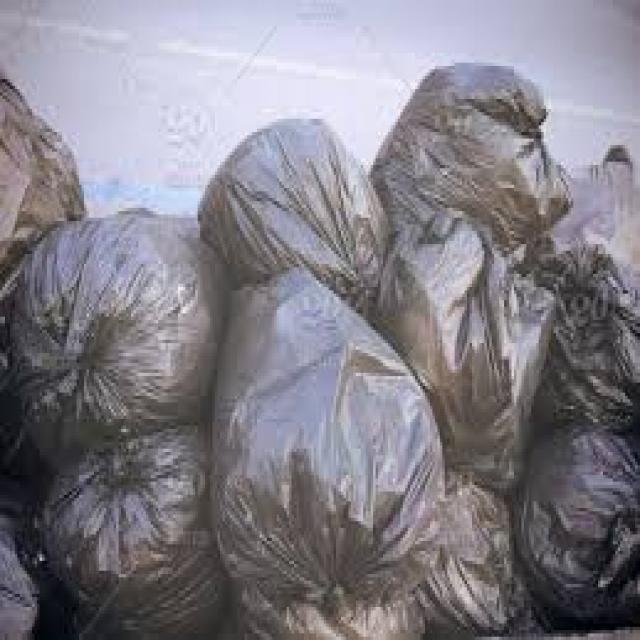plastic_bag: (218, 278, 431, 578), (3, 170, 226, 424), (38, 417, 209, 615), (377, 57, 565, 225), (209, 116, 377, 275), (399, 249, 557, 401)
